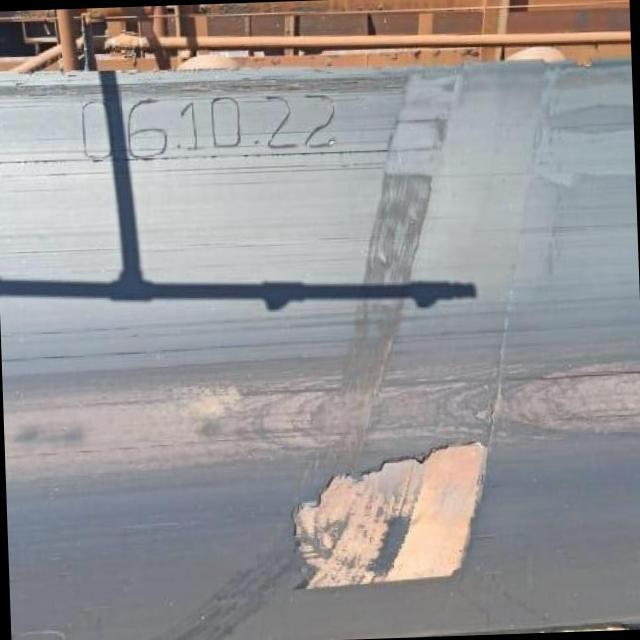Tear: (286, 434, 491, 596)
